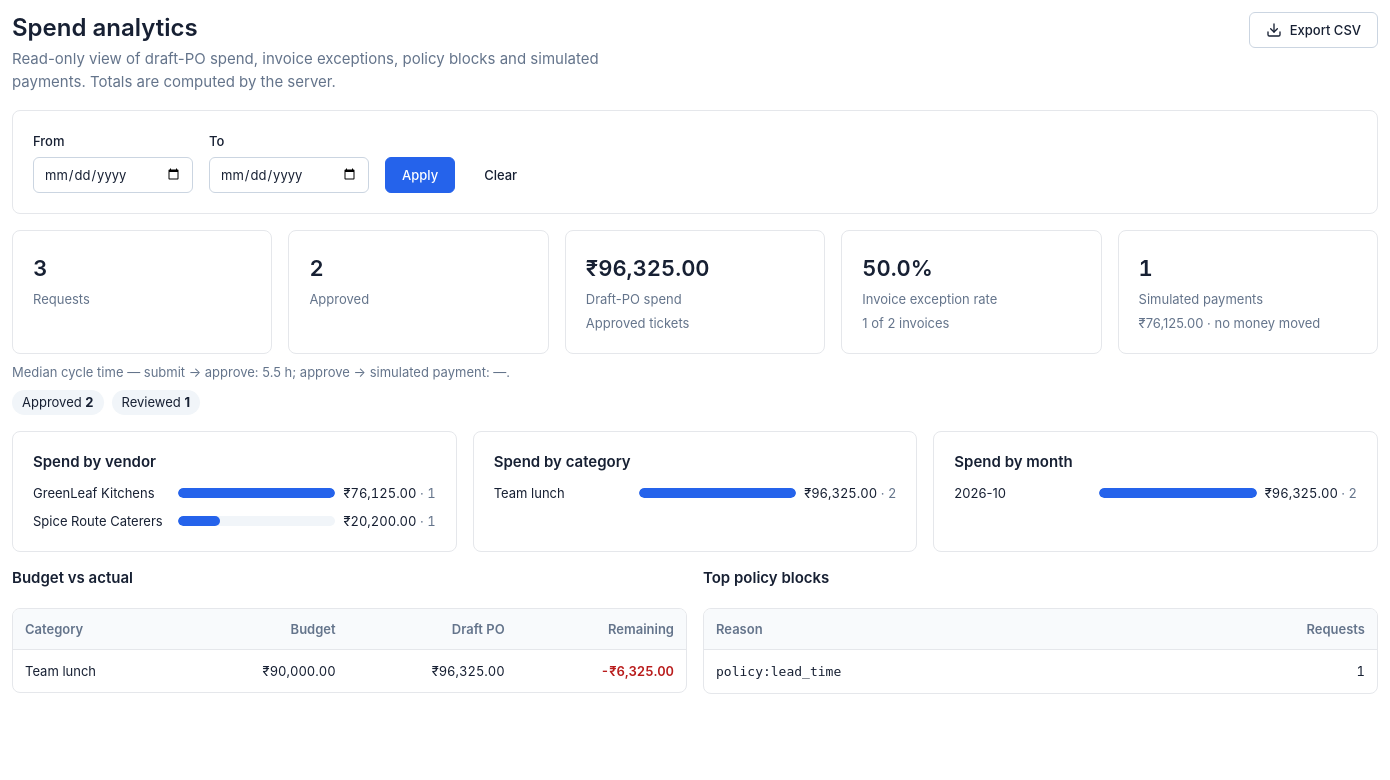
Test case: AnalyticsPage › shows a safe error when export is forbidden
Expected: the element with test id "kpi-requests" is shown, [12,230,272,354]
Click the button "Export CSV" at (1313, 30), box [1249,12,1378,48]
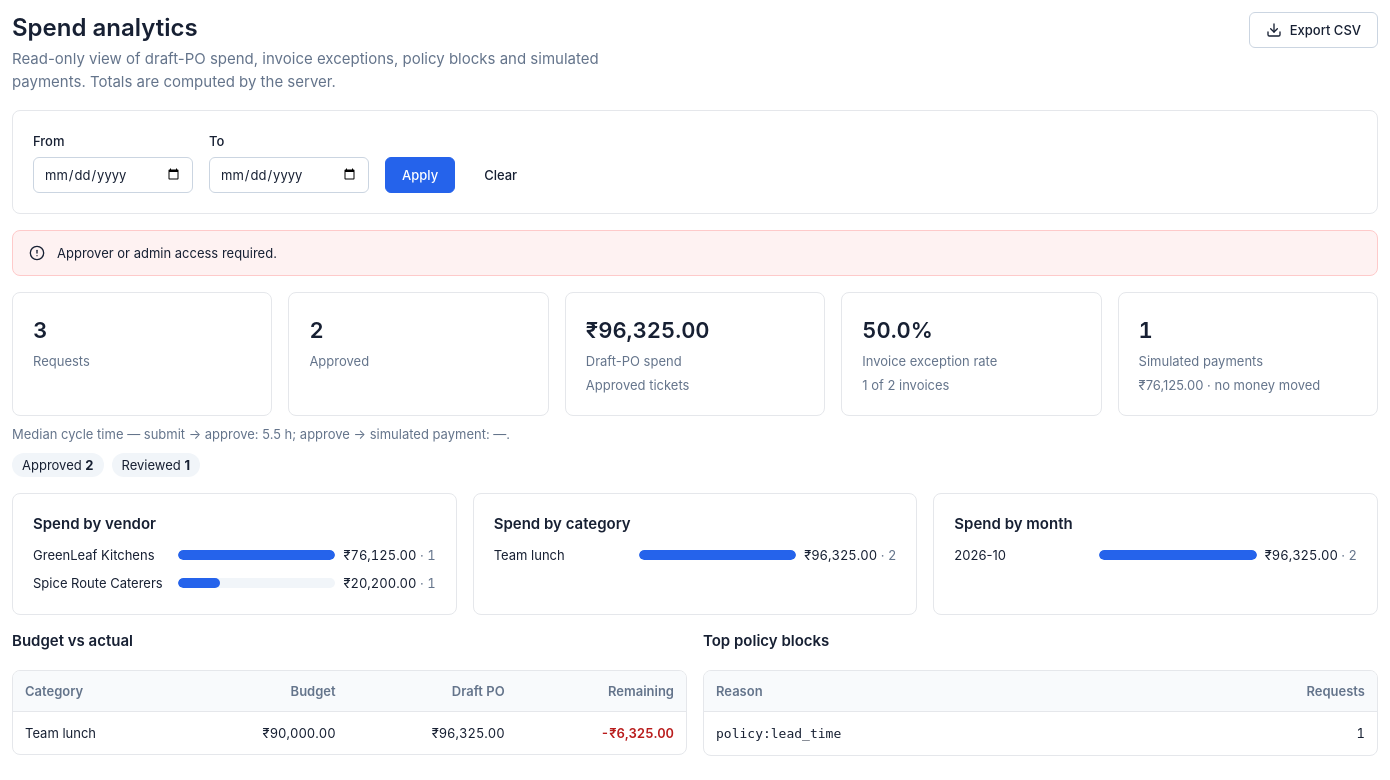
Expected: the text "Approver or admin access required." is shown, [57,243,277,263]
